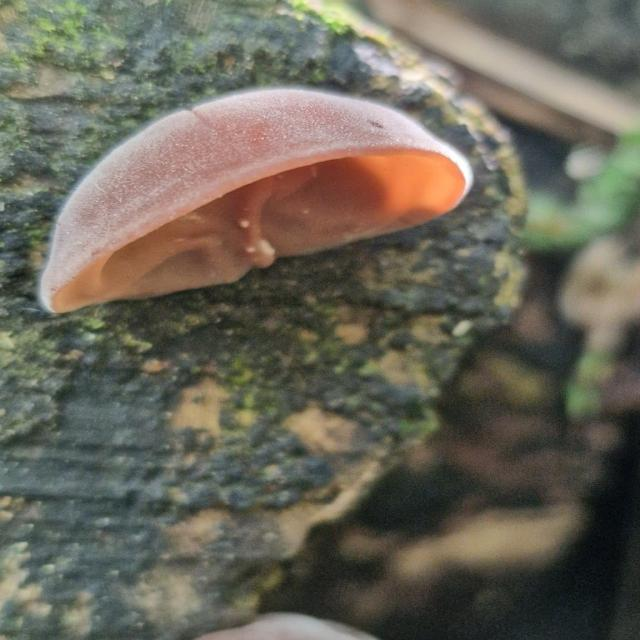Matang: (20, 76, 485, 327)
